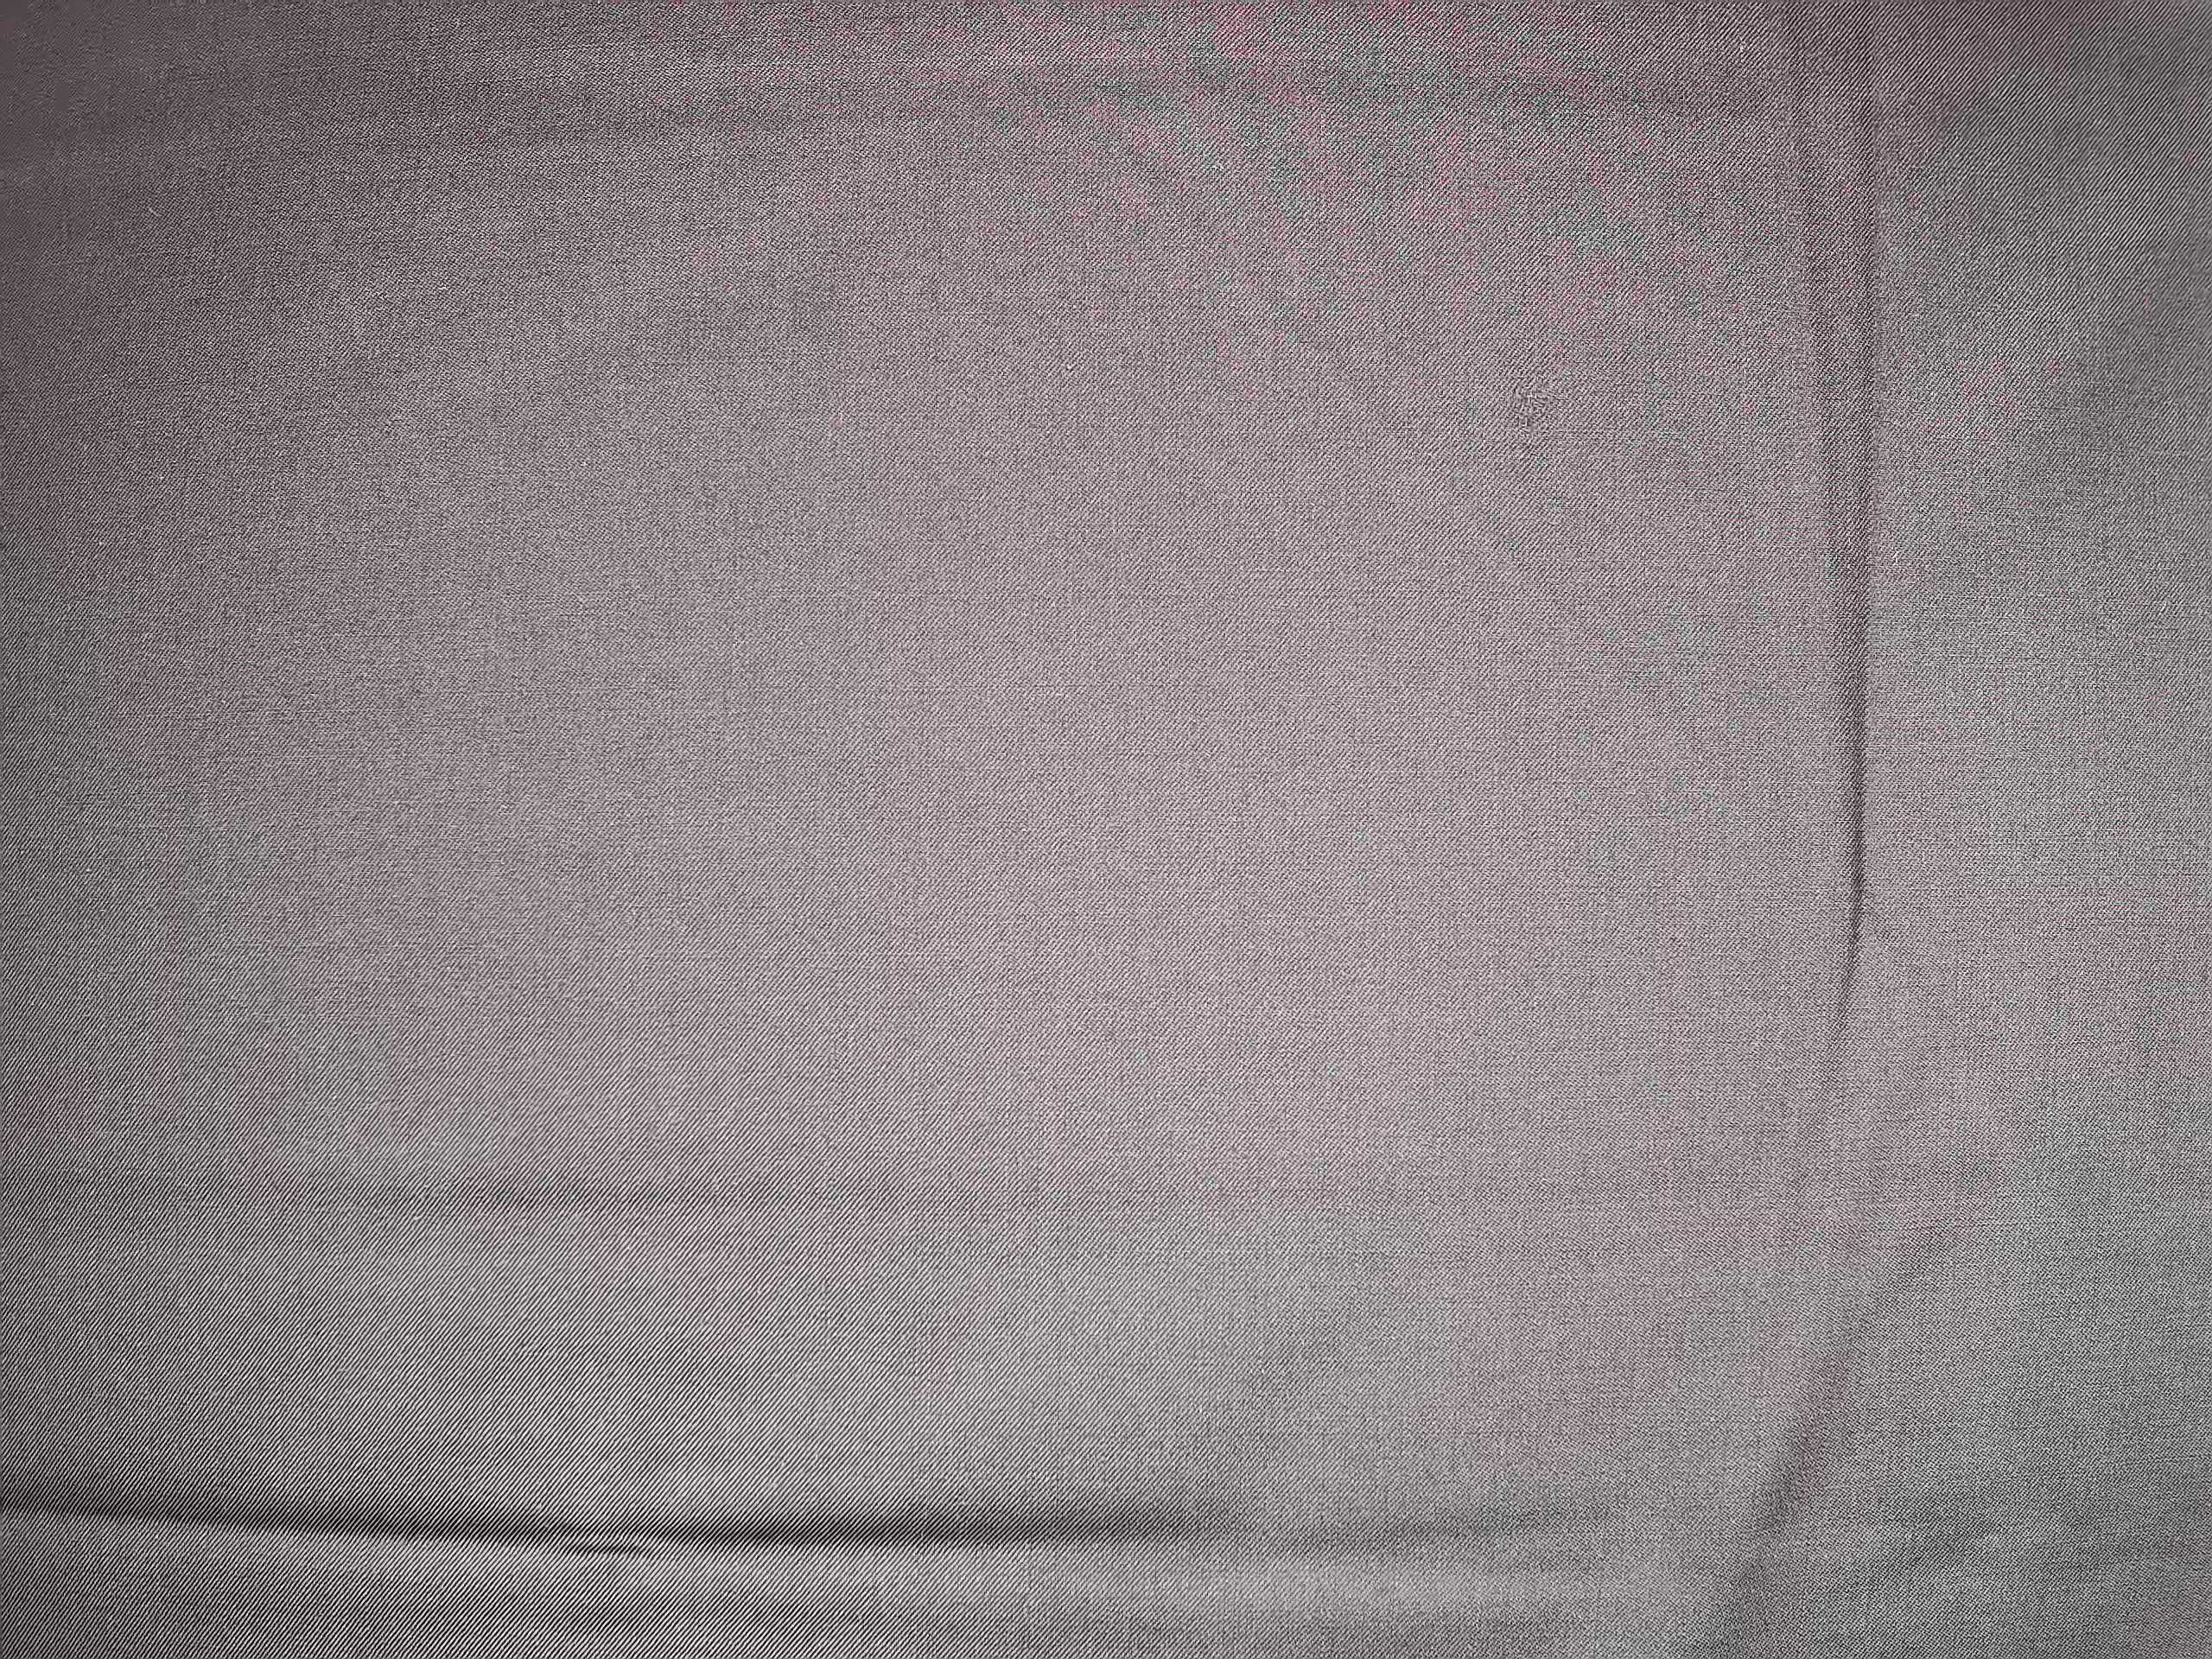knots: (1487, 354, 1578, 450)
